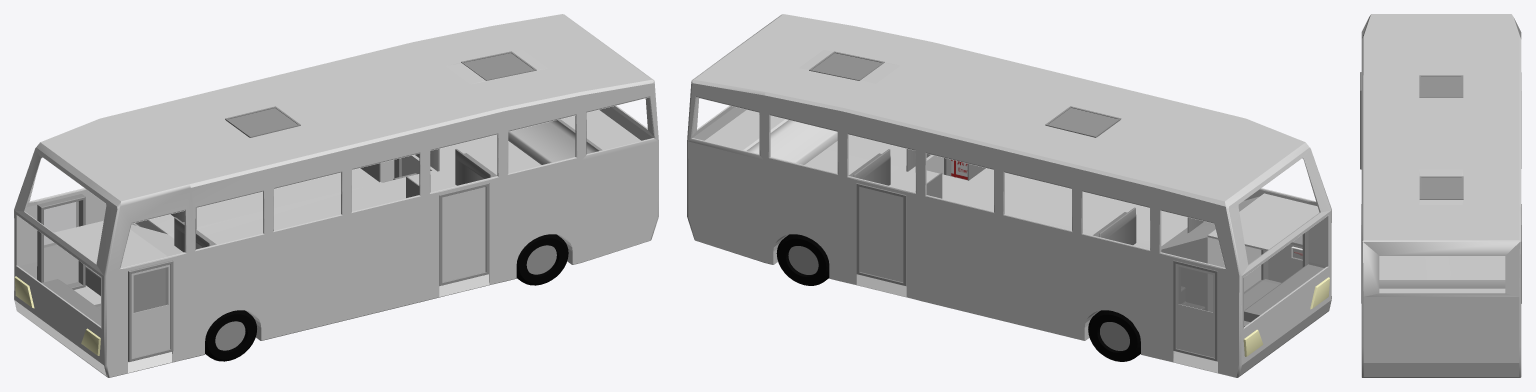
File: bus_0418.fbx
The picture shows the model from 3 angles, left to right: view 1: azimuth 30°, elevation 25°; view 2: azimuth 150°, elevation 25°; view 3: azimuth 270°, elevation 25°; orthographic projection. The views are drawn at different scales.
Visible parts, largest first — view 1: busbody, left_back_door, left_front_door, right_front_door, glass_04, ex_gate001, ex_gate, glass_03; view 2: busbody, right_back_door, right_front_door, glass_03, left_front_door, ex_gate001, ex_gate; view 3: busbody, ex_gate, ex_gate001, exit_gate, exit_gate001, left_front_door.
Part boxes in pixels (box(x1,y1,x2,y2)): busbody: box(14, 14, 658, 377); left_back_door: box(439, 183, 488, 285); left_front_door: box(128, 260, 173, 361); right_front_door: box(37, 194, 85, 289); glass_04: box(133, 267, 167, 312); ex_gate001: box(228, 108, 297, 135); ex_gate: box(464, 53, 533, 78); glass_03: box(44, 201, 77, 247); busbody: box(687, 14, 1331, 377); right_back_door: box(856, 183, 906, 286); right_front_door: box(1173, 260, 1217, 361); glass_03: box(1178, 266, 1212, 312); left_front_door: box(1261, 230, 1308, 282); ex_gate001: box(1048, 108, 1117, 135); ex_gate: box(812, 53, 881, 79); busbody: box(1361, 14, 1521, 377); ex_gate: box(1421, 177, 1461, 198); ex_gate001: box(1421, 76, 1461, 96); exit_gate: box(1419, 176, 1463, 199); exit_gate001: box(1419, 75, 1463, 97); left_front_door: box(1360, 72, 1361, 169).
Size of the model in its own units: 4585 by 1490 by 1330.
